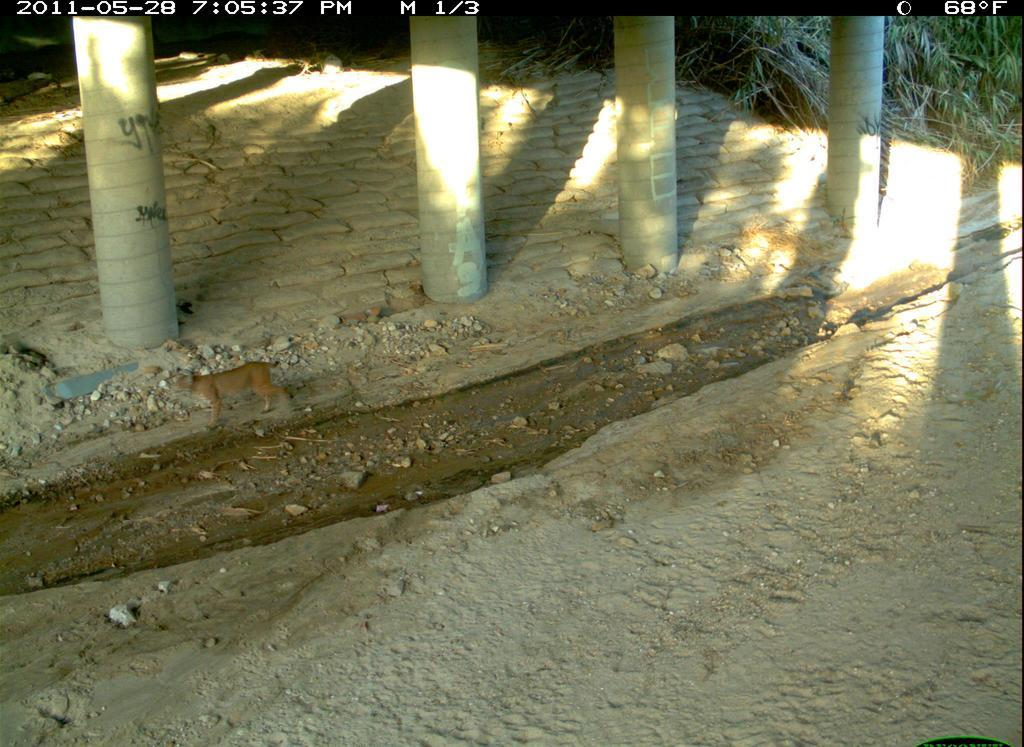bobcat: (333, 707, 594, 747)
